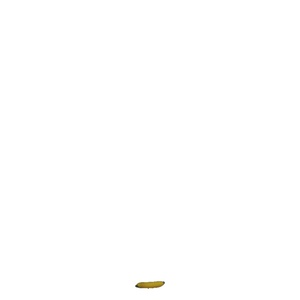banana: (133, 277, 165, 294)
